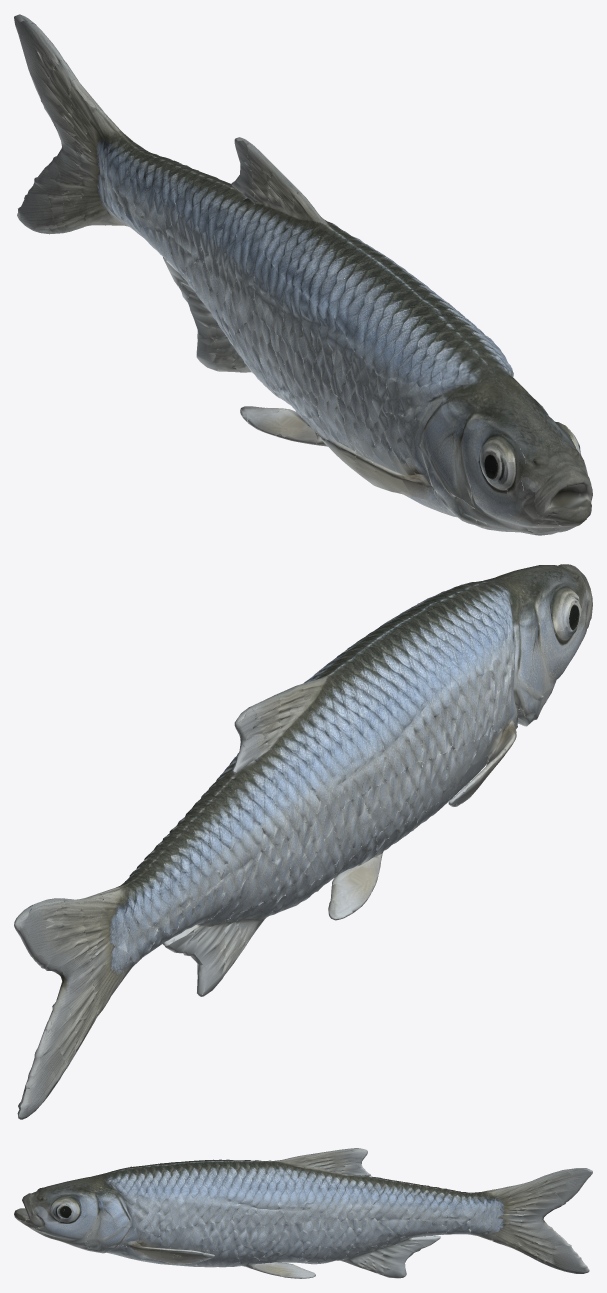
The model's file is ukleja.glb.
3 views of the same model, one above another, from view 1: azimuth 30°, elevation 25°; view 2: azimuth 150°, elevation 25°; view 3: azimuth 270°, elevation 25° (orthographic). The views are drawn at different scales.
Visible parts, largest first — view 1: Mesh_0; view 2: Mesh_0; view 3: Mesh_0.
Part boxes in pixels (left/top/right/bottom): Mesh_0: left=14, top=14, right=592, bottom=535; Mesh_0: left=14, top=564, right=592, bottom=1119; Mesh_0: left=14, top=1148, right=592, bottom=1278.
Size of the model in its own units: 0.2783 by 0.4724 by 1.9.
Materials: 1 (1 with a texture image).
